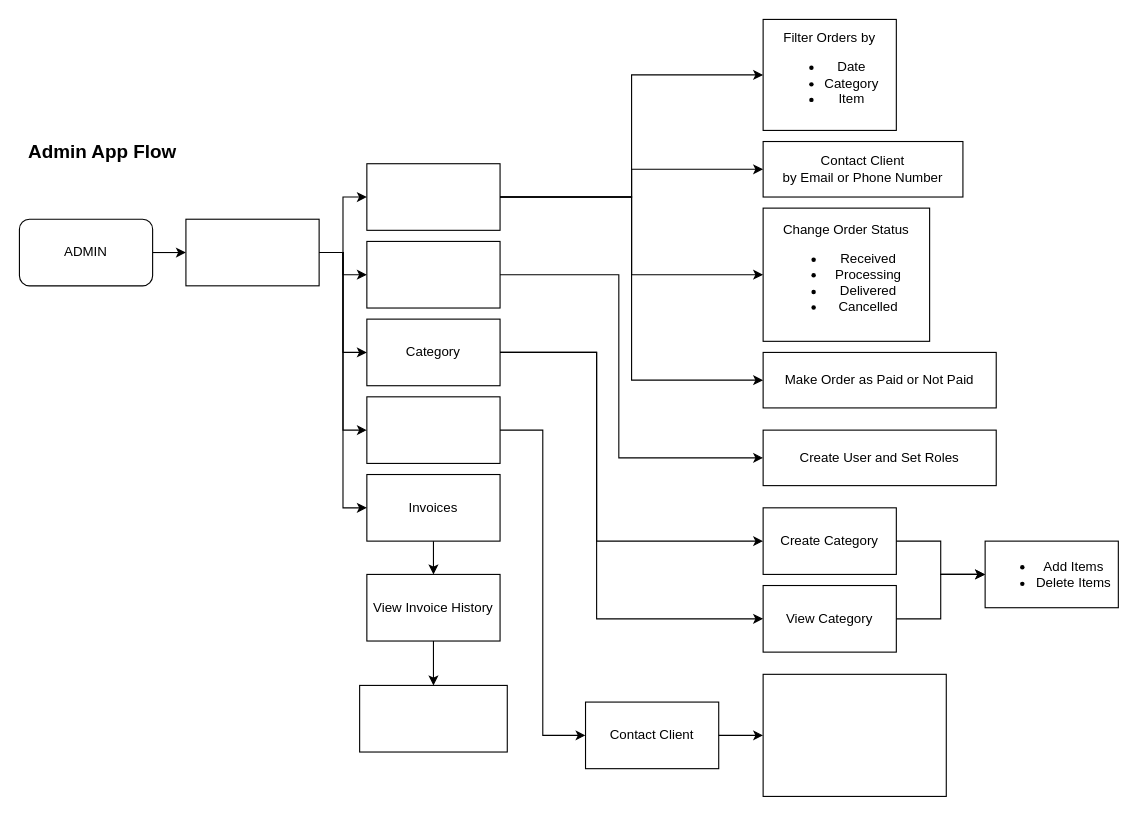
This 1138x816 diagram has some shape labels left out. The centre of each missing label's shape, as x and y in pixels:
"Change Complaint Status Pending Resolved" belongs at (x=854, y=734).
"Login" belongs at (x=252, y=252).
"Print Invoice Delete Invoice" belongs at (x=433, y=718).
"View Complaint" belongs at (x=433, y=429).
"View Orders" belongs at (x=433, y=196).
"View Users" belongs at (x=433, y=274).
